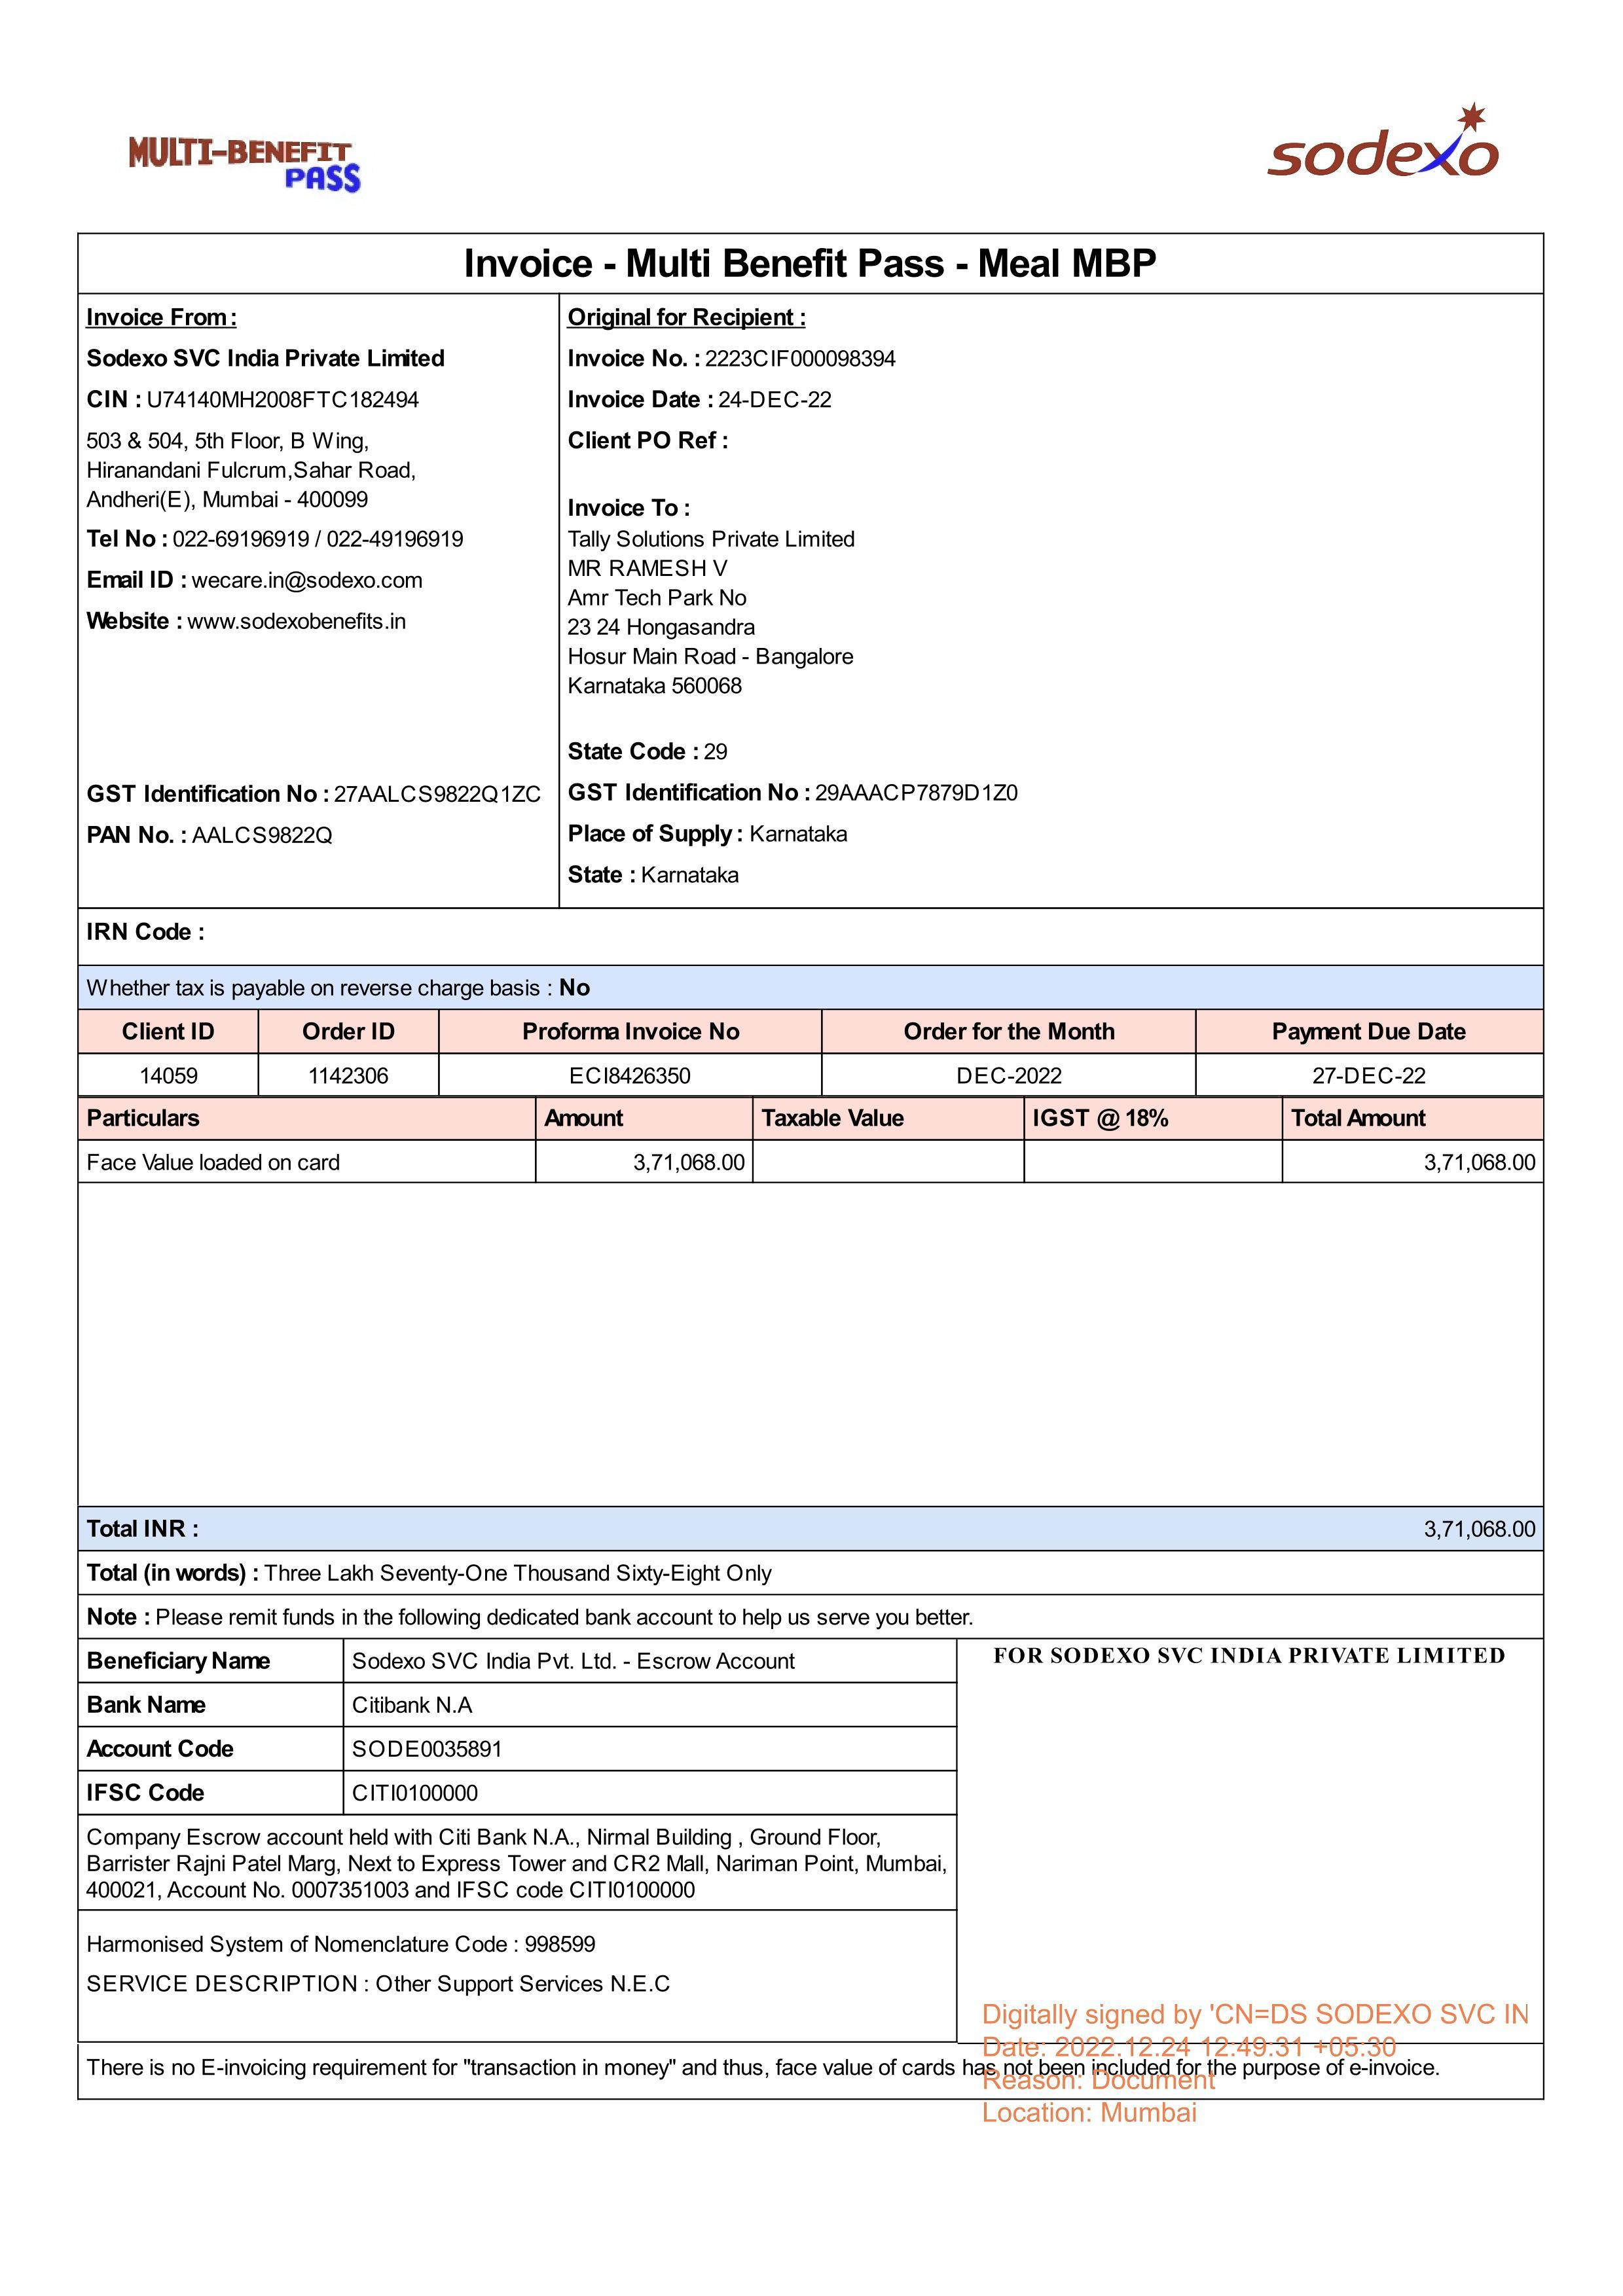InvoiceDate: (715, 383, 833, 413)
InvoiceNumber: (703, 344, 903, 374)
TotalAmount: (1416, 1503, 1546, 1550)
